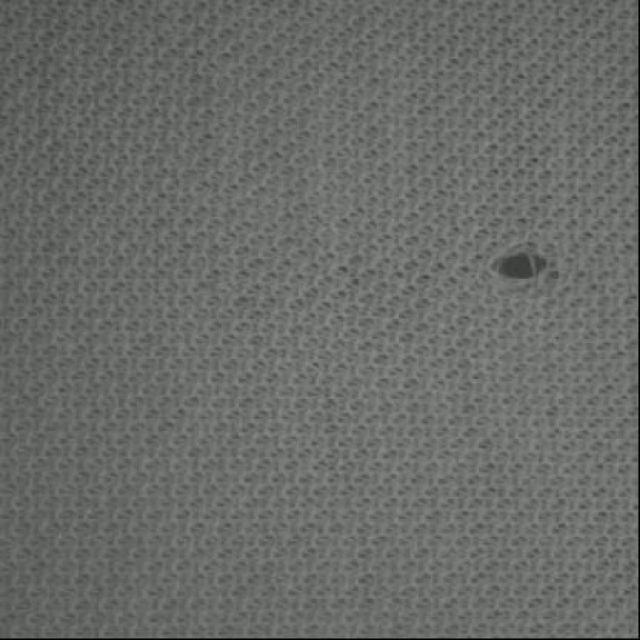Hole: (489, 241, 560, 294)
